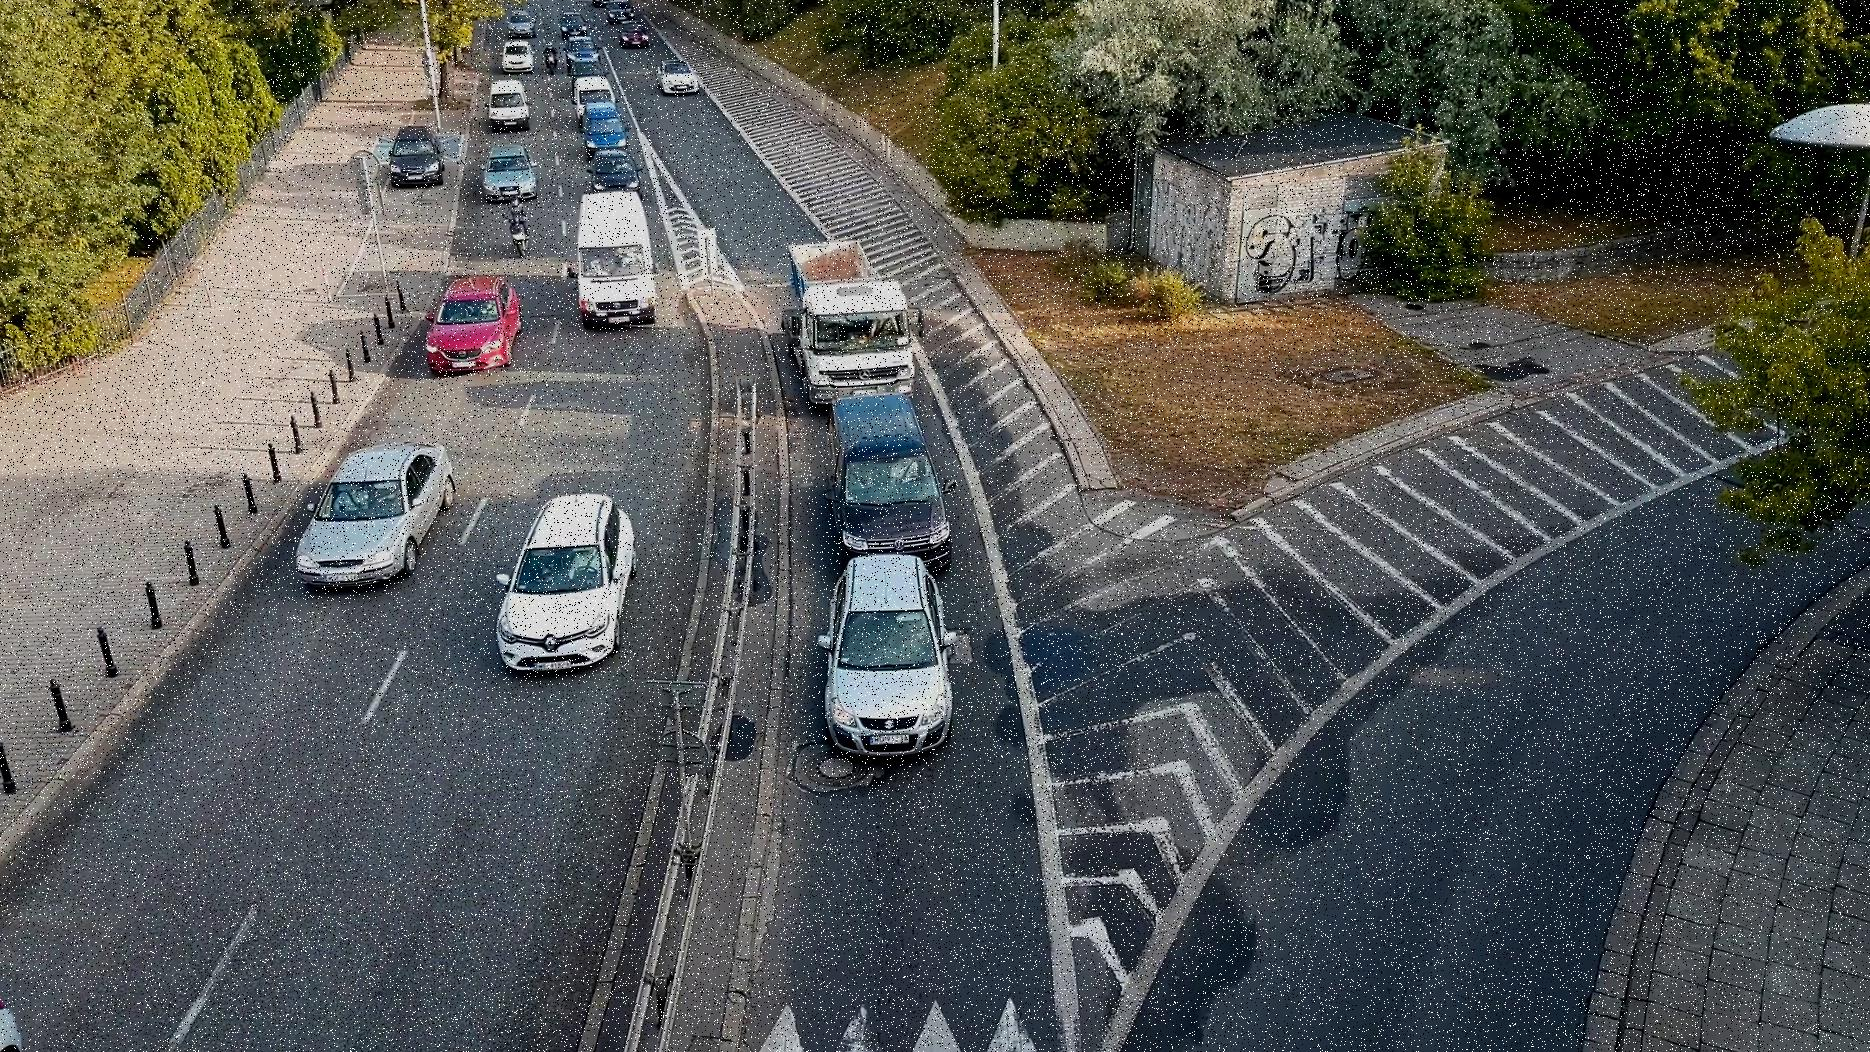bike: (505, 194, 529, 252)
car: (827, 548, 952, 762), (492, 489, 638, 671), (822, 393, 965, 573), (292, 437, 457, 586), (570, 188, 668, 326), (387, 121, 451, 191), (483, 141, 546, 198), (480, 76, 537, 139), (586, 146, 646, 197), (650, 51, 701, 101), (579, 105, 627, 154), (0, 942, 15, 1052)
truck: (772, 238, 916, 397)
